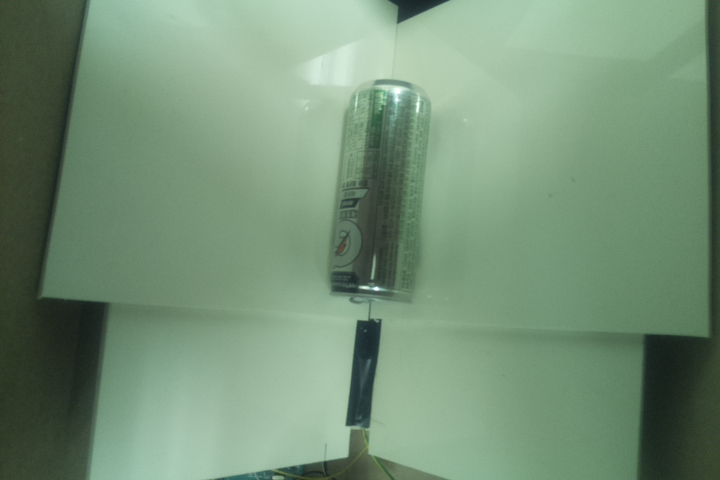can: (324, 74, 432, 308)
